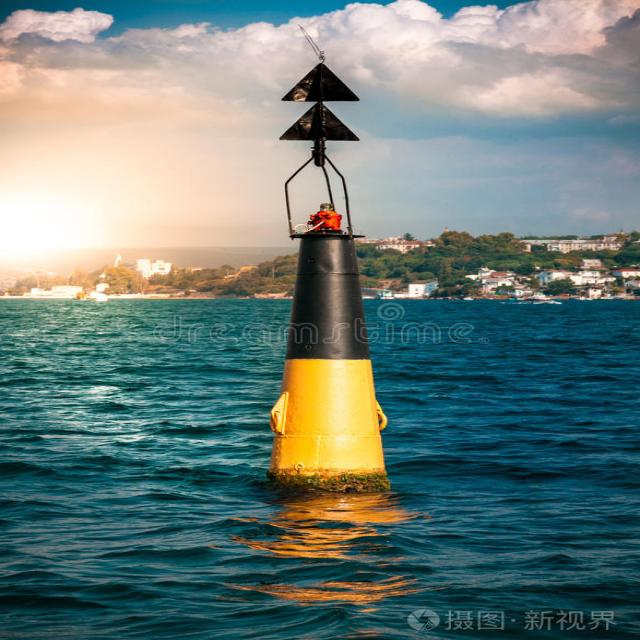buoy: (236, 182, 392, 499)
